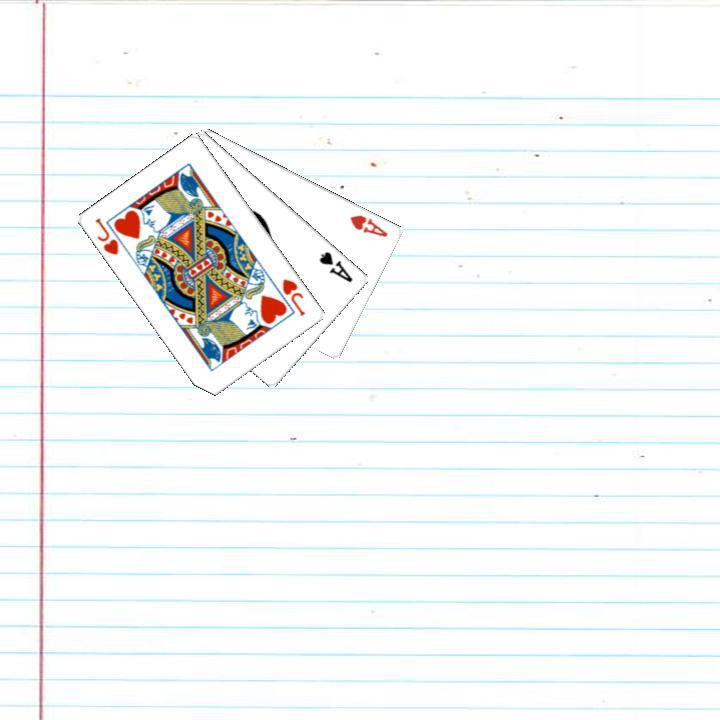A: (315, 247, 355, 284), (346, 210, 390, 239)
J: (278, 274, 308, 318), (91, 213, 121, 257)
